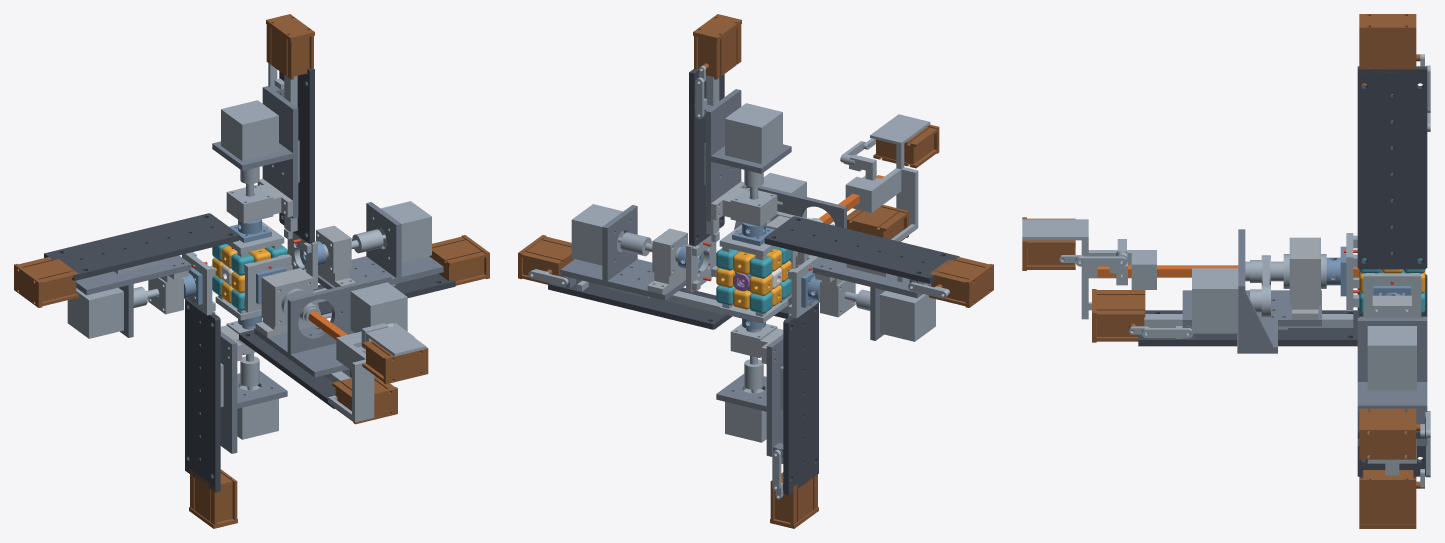
Rendered from robot_assembly.glb.
3 views of the same model, side by side, from view 1: azimuth 30°, elevation 25°; view 2: azimuth 150°, elevation 25°; view 3: azimuth 270°, elevation 25° (orthographic). The views are drawn at different scales.
Visible parts, largest first — view 1: B__rail_support, L__rail_support, D__carriage, F__carriage, LOCK__lock_guide, R__carriage, F__rail_support, F__motor_NEMA17, B__carriage, L__carriage, L__motor_NEMA17, D__motor_NEMA17_offset (+27 smaller); view 2: B__rail_support, L__rail_support, R__carriage, LOCK__lock_guide, F__carriage, B__carriage, F__motor_NEMA17, R__rail_support, F__rail_support, L__motor_NEMA17, L__carriage, F__servo_mount (+24 smaller); view 3: F__rail_support, D__carriage, R__carriage, LOCK__lock_guide, R__motor_NEMA17, F__servo_mount, D__motor_NEMA17_offset, D__rail_support, R__servo_mount, B__servo_mount, D__bearing_housing, D__servo_mount (+14 smaller).
Part boxes in pixels (<box>): B__rail_support: <box>185,299,220,492</box>; L__rail_support: <box>44,213,239,280</box>; D__carriage: <box>254,274,391,377</box>; F__carriage: <box>212,85,298,218</box>; LOCK__lock_guide: <box>328,325,426,422</box>; R__carriage: <box>318,202,443,289</box>; F__rail_support: <box>279,68,314,243</box>; F__motor_NEMA17: <box>221,100,278,161</box>; B__carriage: <box>220,331,287,453</box>; L__carriage: <box>76,255,191,337</box>; L__motor_NEMA17: <box>67,287,123,338</box>; D__motor_NEMA17_offset: <box>350,282,407,332</box>; B__rail_support: <box>783,302,818,495</box>; L__rail_support: <box>764,216,959,283</box>; R__carriage: <box>560,205,685,300</box>; LOCK__lock_guide: <box>845,114,930,241</box>; F__carriage: <box>695,89,791,221</box>; B__carriage: <box>716,334,783,458</box>; F__motor_NEMA17: <box>725,103,782,164</box>; R__rail_support: <box>548,279,731,329</box>; F__rail_support: <box>689,68,724,246</box>; L__motor_NEMA17: <box>880,290,935,341</box>; L__carriage: <box>812,258,931,340</box>; F__servo_mount: <box>693,14,741,79</box>; F__rail_support: <box>1357,66,1427,269</box>; D__carriage: <box>1182,229,1321,353</box>; R__carriage: <box>1357,318,1427,423</box>; LOCK__lock_guide: <box>1022,219,1156,319</box>; R__motor_NEMA17: <box>1367,326,1416,390</box>; F__servo_mount: <box>1359,14,1416,75</box>; D__motor_NEMA17_offset: <box>1192,268,1238,333</box>; D__rail_support: <box>1138,310,1359,346</box>; R__servo_mount: <box>1359,408,1416,459</box>; B__servo_mount: <box>1359,470,1416,528</box>; D__bearing_housing: <box>1292,237,1318,319</box>; D__servo_mount: <box>1092,289,1145,342</box>.
Bounding box in the file's own units: 517 × 517 × 352.
